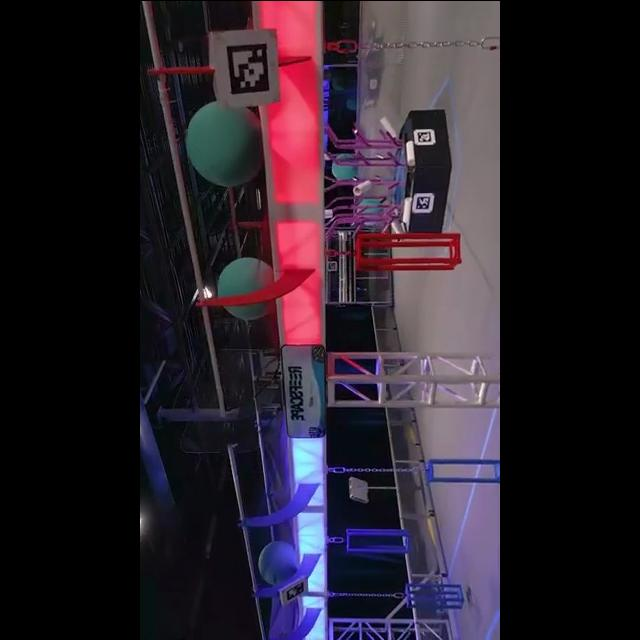ALGAE: (184, 98, 264, 185), (216, 258, 276, 318), (260, 540, 298, 584)
